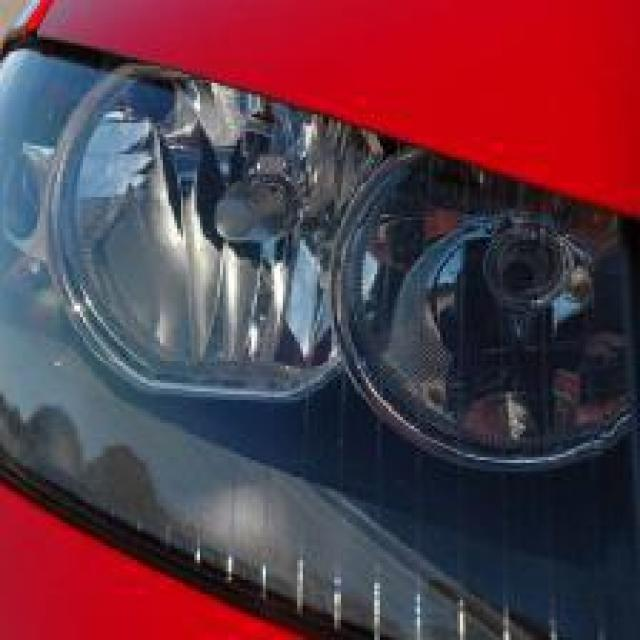damaged: (142, 71, 388, 383)
